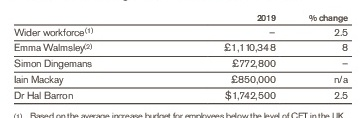table: (0, 0, 363, 118)
